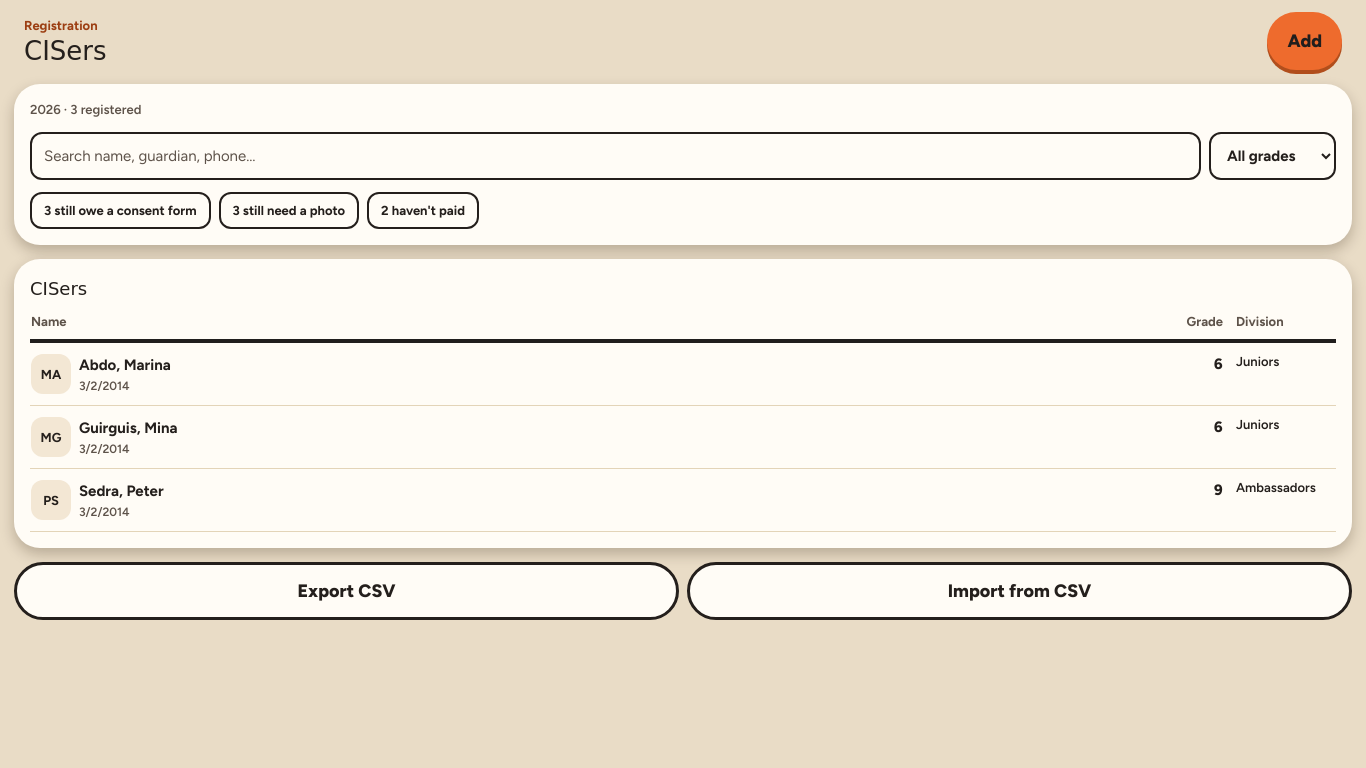
Test case: payments -- the "haven't paid" chase mode › counts only kids with no payment at all, and narrows the roster to them
Click the button "2 haven't paid" at point(423, 210), box left=367, top=192, right=479, bottom=229
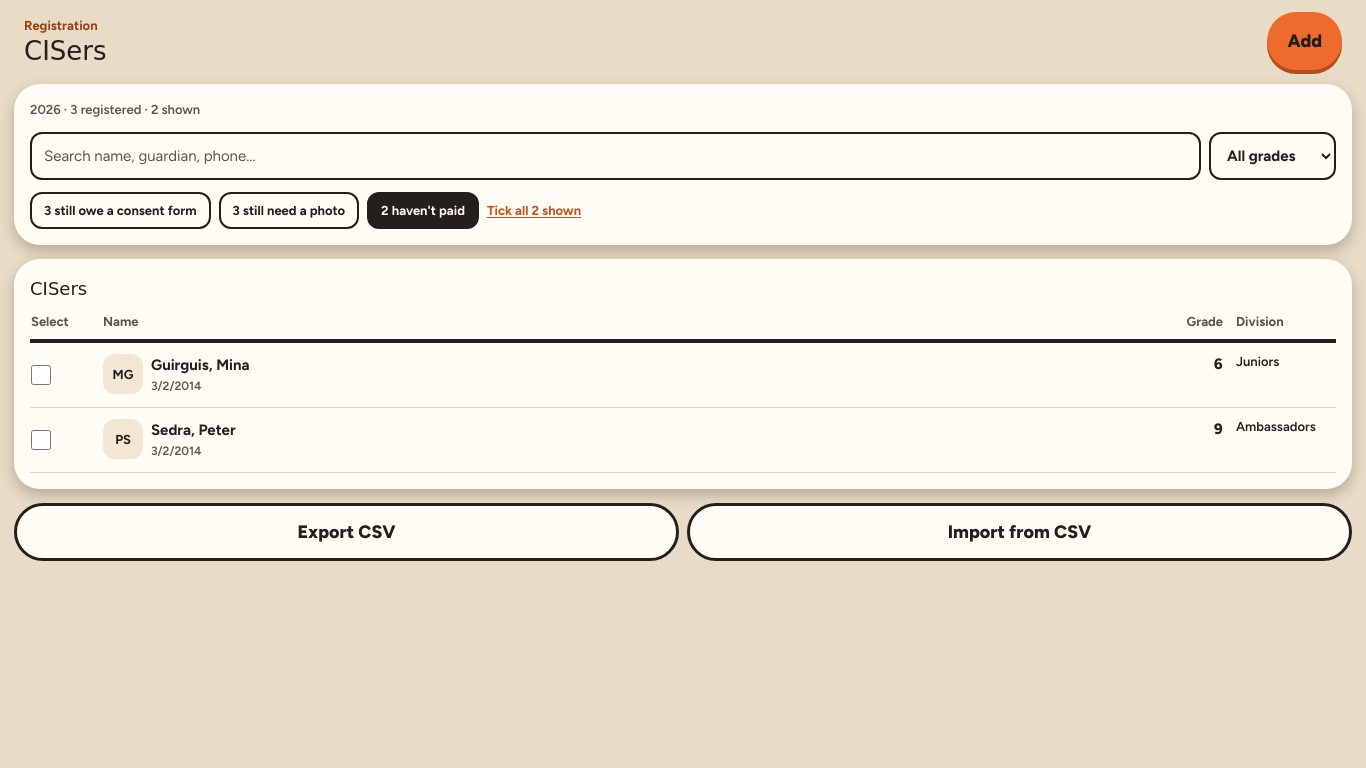
Expected: the button "Guirguis, Mina" is shown, left=151, top=356, right=250, bottom=376
Now the button "Abdo, Marina" is gone
